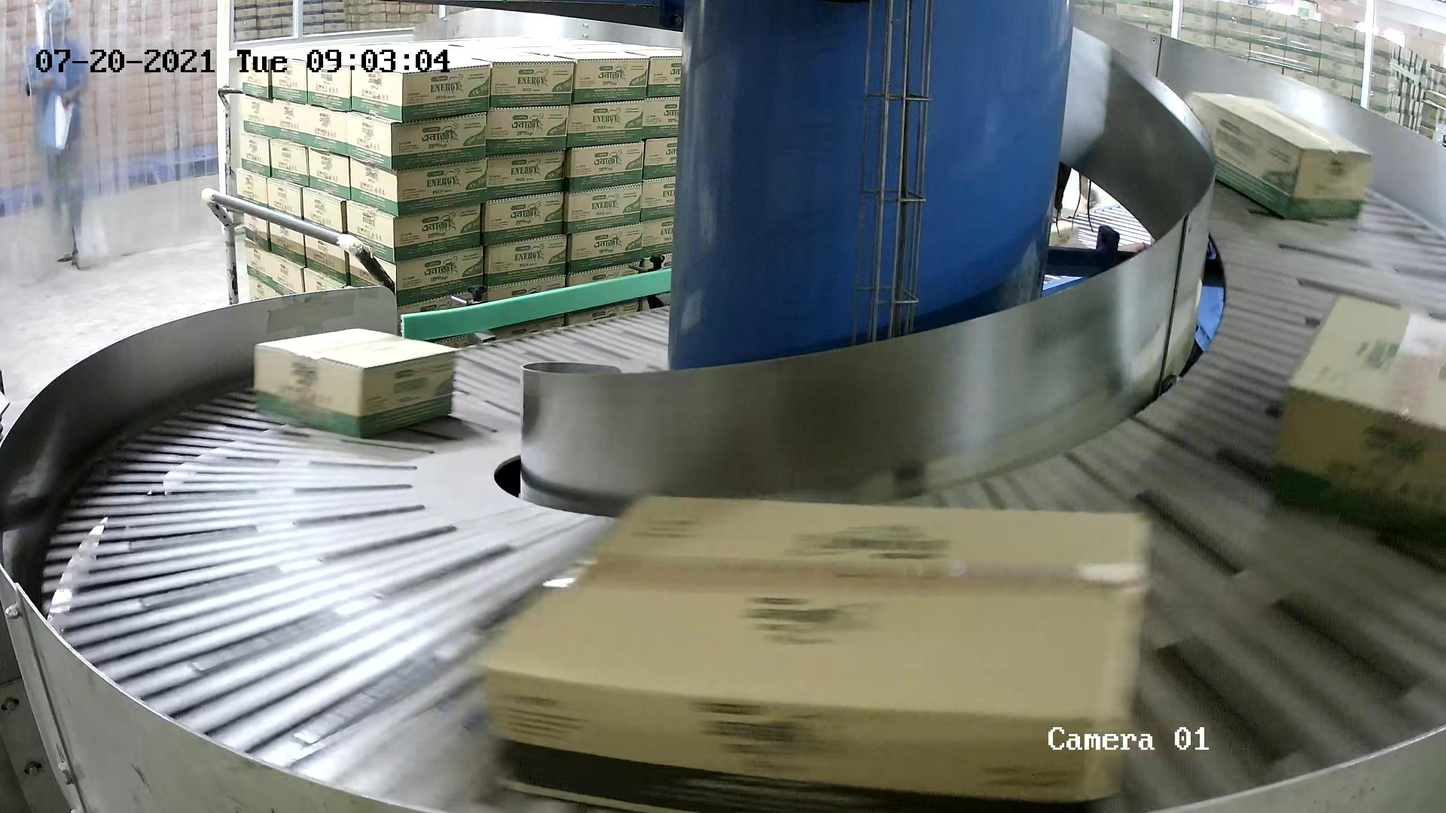Box: (472, 490, 1154, 813), (1270, 292, 1446, 549), (1188, 91, 1372, 220), (252, 327, 460, 439)
